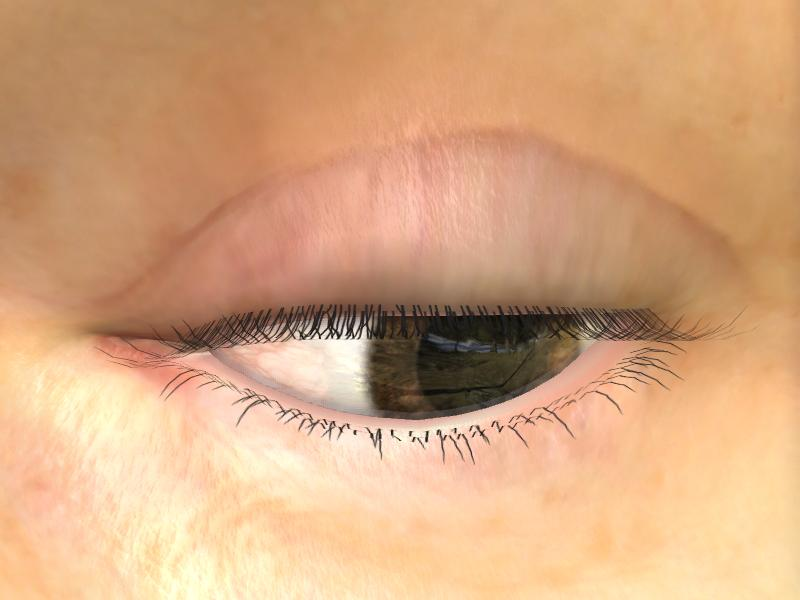eye: (368, 314, 587, 417)
